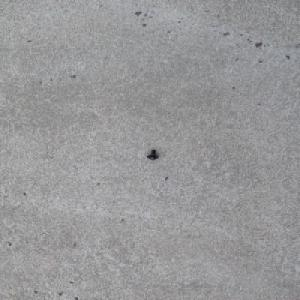BoltWasher: (146, 149, 159, 160)
